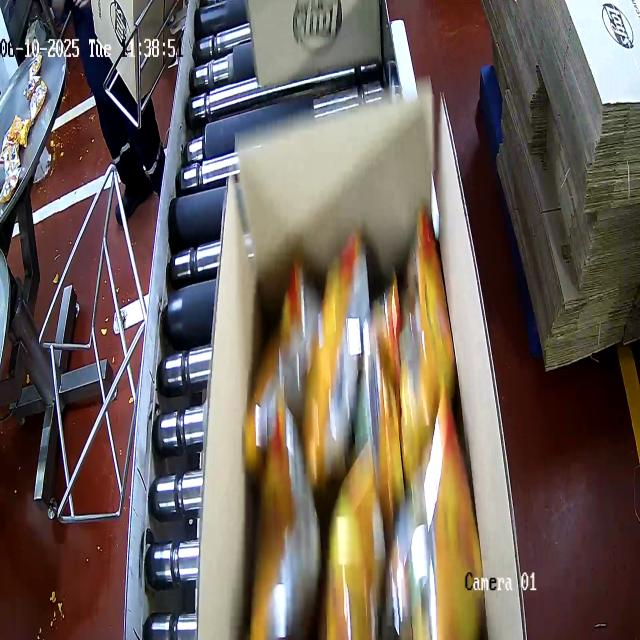FRENCH_CHEESE: (238, 226, 498, 640)
